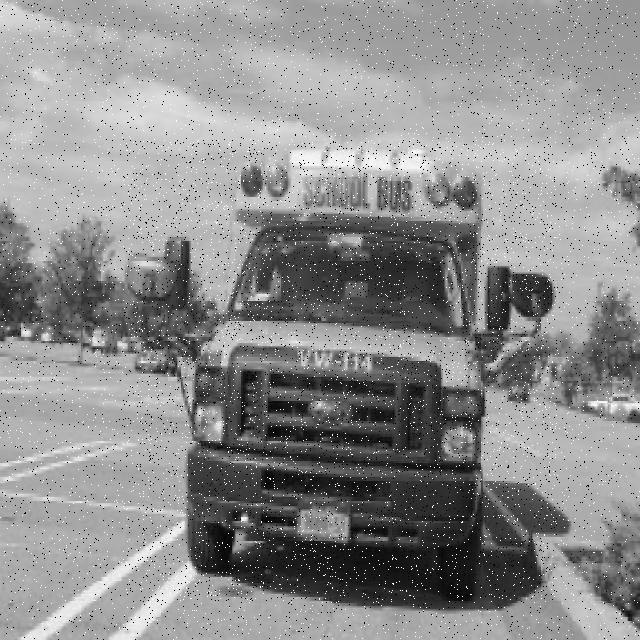Bus- Small: (126, 140, 557, 603)
